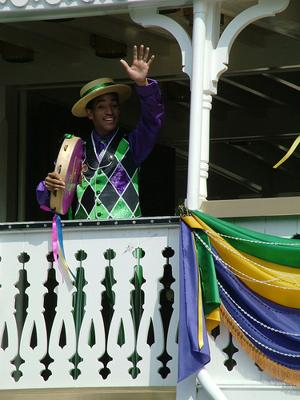person: (38, 44, 166, 392)
